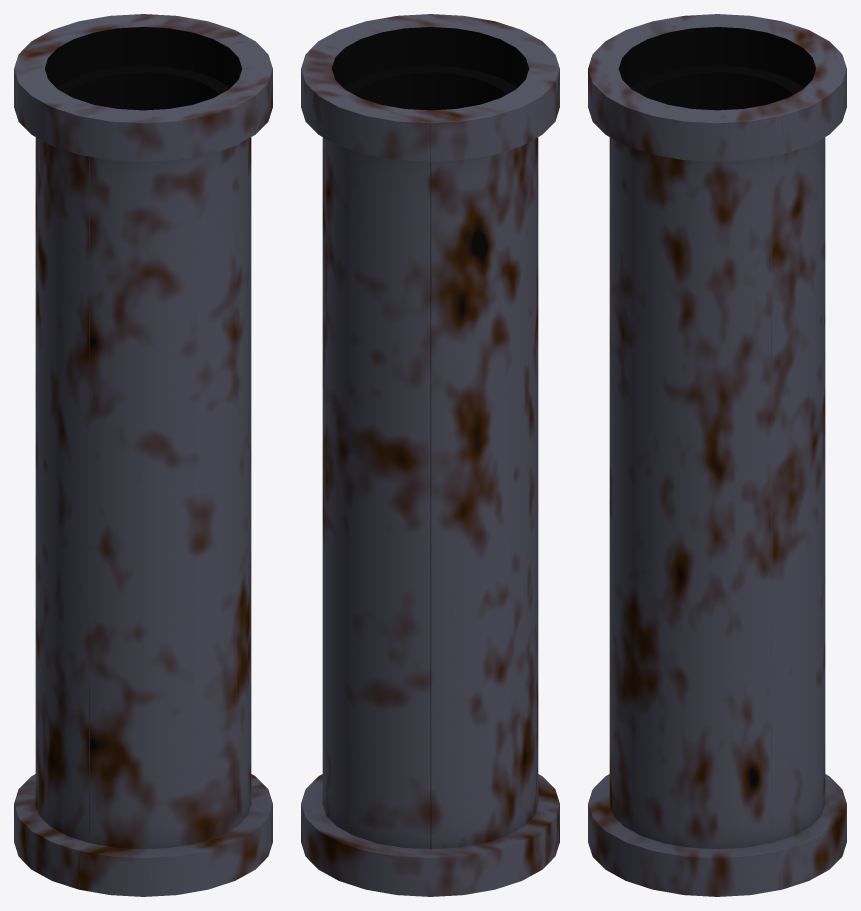
Rendered from PipeLong.fbx.
3 renders of one model, left to right at view 1: azimuth 30°, elevation 25°; view 2: azimuth 150°, elevation 25°; view 3: azimuth 270°, elevation 25°, orthographic.
Parts seen in each view (by area): view 1: PipeStraightJock; view 2: PipeStraightJock; view 3: PipeStraightJock.
Boxes of the visible parts, x1,y1,x2,y2 form: PipeStraightJock: (14,14,272,896); PipeStraightJock: (301,14,559,896); PipeStraightJock: (588,14,846,896).
Bounding box in the file's own units: 182 × 601 × 182.
Materials: 2 (1 with a texture image).
